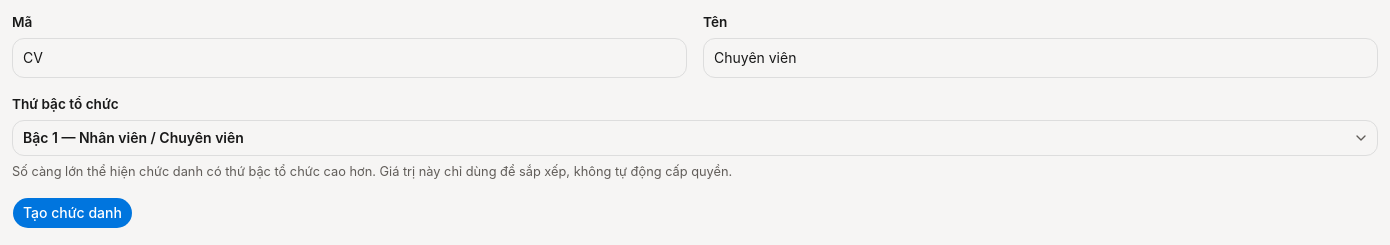
Test: PositionForm › resets a create form after a successful submit
Click the button "Tạo chức danh" at (72, 213), box [12,197,133,229]
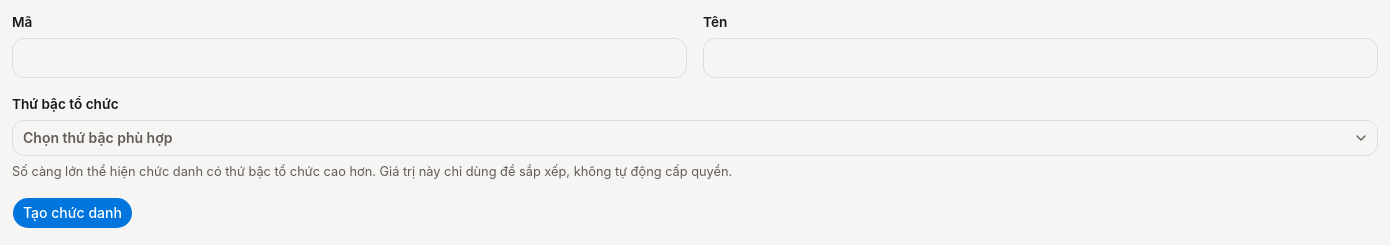
expect the field labelled "Mã" is empty: met, box [12,38,687,78]
expect the field labelled "Tên" is empty: met, box [703,38,1378,78]
expect the dropdown named "Thứ bậc tổ chức" reads "Chọn thứ bậc phù hợp": met, box [12,120,1378,156]
